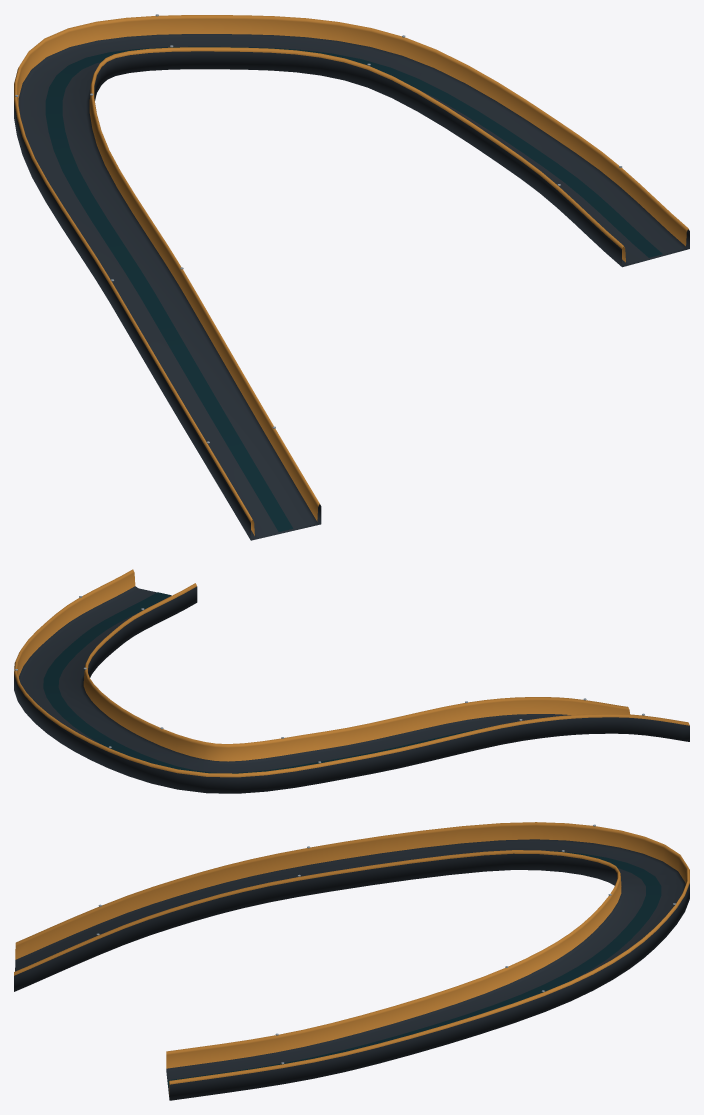
Rendered from aurora-ramp.dae.
3 views of the same model, one above another, from view 1: azimuth 30°, elevation 25°; view 2: azimuth 150°, elevation 25°; view 3: azimuth 270°, elevation 25° (orthographic). The views are drawn at different scales.
Visible parts, largest first — view 1: Rolled channel • matched physics spline, Narrow enamel navigation strip; view 2: Rolled channel • matched physics spline, Narrow enamel navigation strip; view 3: Rolled channel • matched physics spline, Narrow enamel navigation strip.
Boxes of the visible parts, x1=… form: Rolled channel • matched physics spline: x1=14, y1=15, x2=689, y2=540; Narrow enamel navigation strip: x1=45, y1=46, x2=662, y2=531; Rolled channel • matched physics spline: x1=14, y1=569, x2=689, y2=793; Narrow enamel navigation strip: x1=43, y1=592, x2=487, y2=773; Rolled channel • matched physics spline: x1=14, y1=822, x2=689, y2=1100; Narrow enamel navigation strip: x1=19, y1=851, x2=661, y2=1086.
Size of the model in its own units: 0.6459 by 0.2304 by 0.7949.
